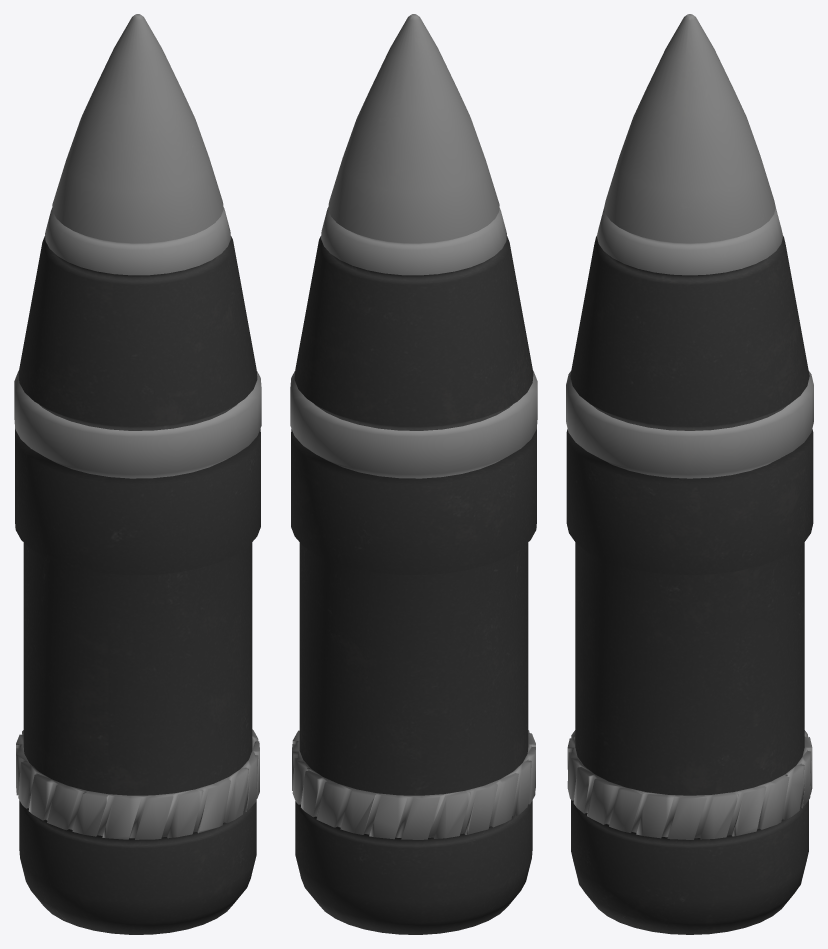
File: bullet.glb
3 renders of one model, left to right at view 1: azimuth 30°, elevation 25°; view 2: azimuth 150°, elevation 25°; view 3: azimuth 270°, elevation 25°, orthographic.
Parts seen in each view (by area): view 1: Object_2; view 2: Object_2; view 3: Object_2.
Part boxes in pixels (bbox=[...]): Object_2: bbox=[14, 14, 261, 934]; Object_2: bbox=[290, 14, 537, 934]; Object_2: bbox=[566, 14, 813, 934].
Size of the model in its own units: 0.584 by 2.31 by 0.584.
Materials: 1 (1 with a texture image).
